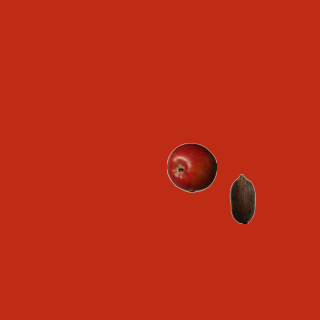Apple Braeburn: (166, 142, 216, 192)
Nut Pecan: (217, 173, 267, 223)
